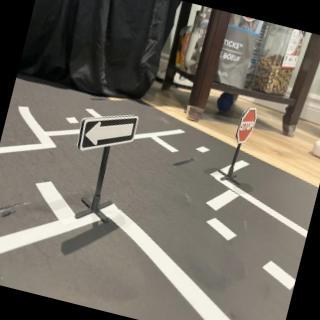sign_oneway_left: (77, 105, 139, 163)
sign_stop: (236, 106, 261, 148)
